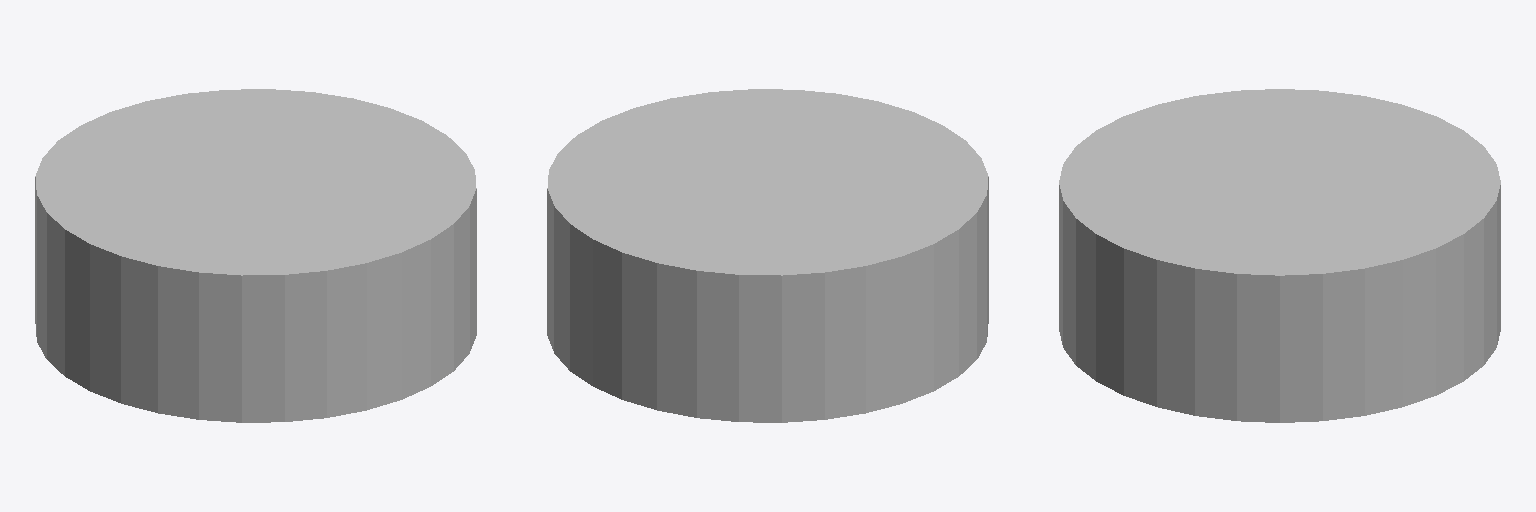
Rendered from spotlight_base.obj.
3 renders of one model, left to right at view 1: azimuth 30°, elevation 25°; view 2: azimuth 150°, elevation 25°; view 3: azimuth 270°, elevation 25°, orthographic.
Parts seen in each view (by area): view 1: Cylinder; view 2: Cylinder; view 3: Cylinder.
Boxes of the visible parts, x1=… form: Cylinder: x1=35, y1=89, x2=476, y2=422; Cylinder: x1=547, y1=89, x2=988, y2=422; Cylinder: x1=1059, y1=89, x2=1500, y2=422.
Bounding box in the file's own units: 2 × 0.7358 × 2.